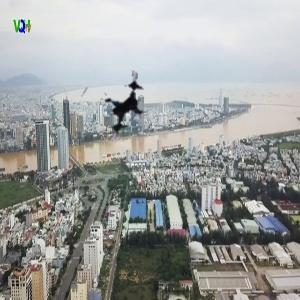drone: (75, 66, 156, 147)
